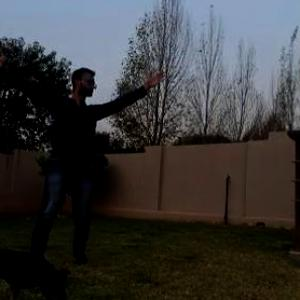takeoff: (0, 45, 173, 269)
